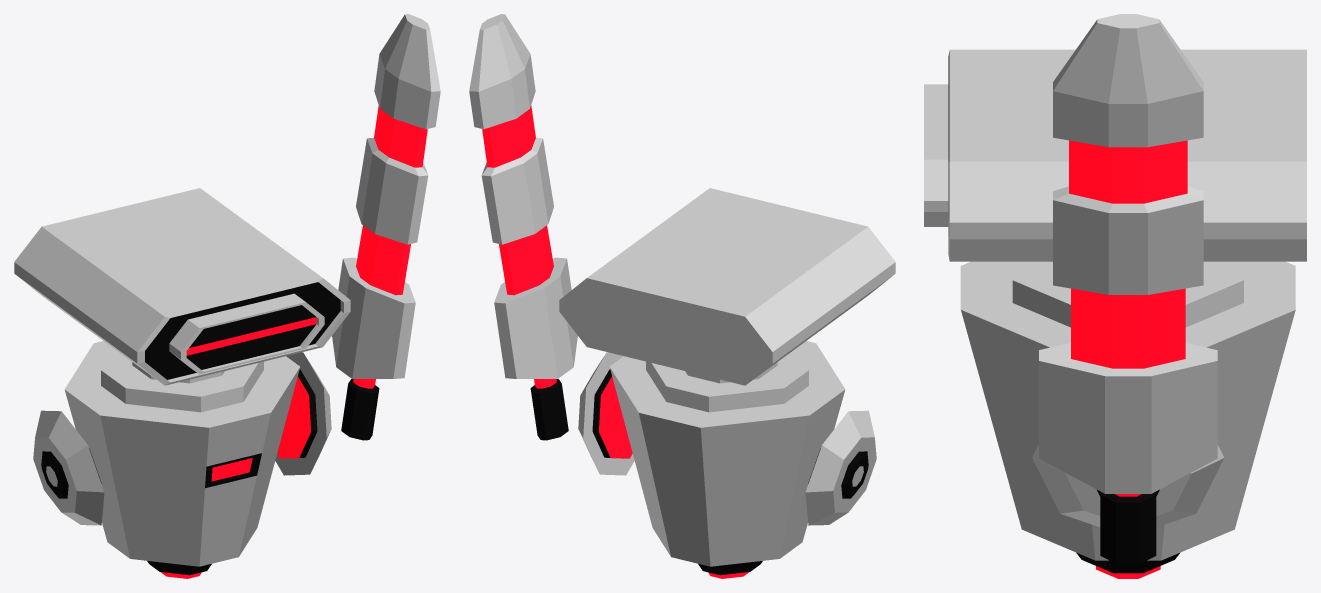
The model's file is MeleeEnemy.fbx.
3 renders of one model, left to right at view 1: azimuth 30°, elevation 25°; view 2: azimuth 150°, elevation 25°; view 3: azimuth 270°, elevation 25°, orthographic. The views are drawn at different scales.
Visible parts, largest first — view 1: Head, Body, Sword, RightArm, LeftArm; view 2: Head, Body, Sword, RightArm, LeftArm; view 3: Sword, Head, Body, LeftArm.
Boxes of the visible parts, <box> form: Head: <box>14,188,350,385</box>; Body: <box>64,341,299,578</box>; Sword: <box>332,14,440,440</box>; RightArm: <box>33,410,104,525</box>; LeftArm: <box>275,352,331,475</box>; Head: <box>559,188,895,385</box>; Body: <box>610,341,845,578</box>; Sword: <box>469,14,577,440</box>; RightArm: <box>805,410,876,525</box>; LeftArm: <box>578,352,634,475</box>; Sword: <box>1039,14,1217,563</box>; Head: <box>924,49,1306,261</box>; Body: <box>960,261,1295,578</box>; LeftArm: <box>1032,445,1224,527</box>.
Size of the model in its own units: 356 by 440 by 214.
